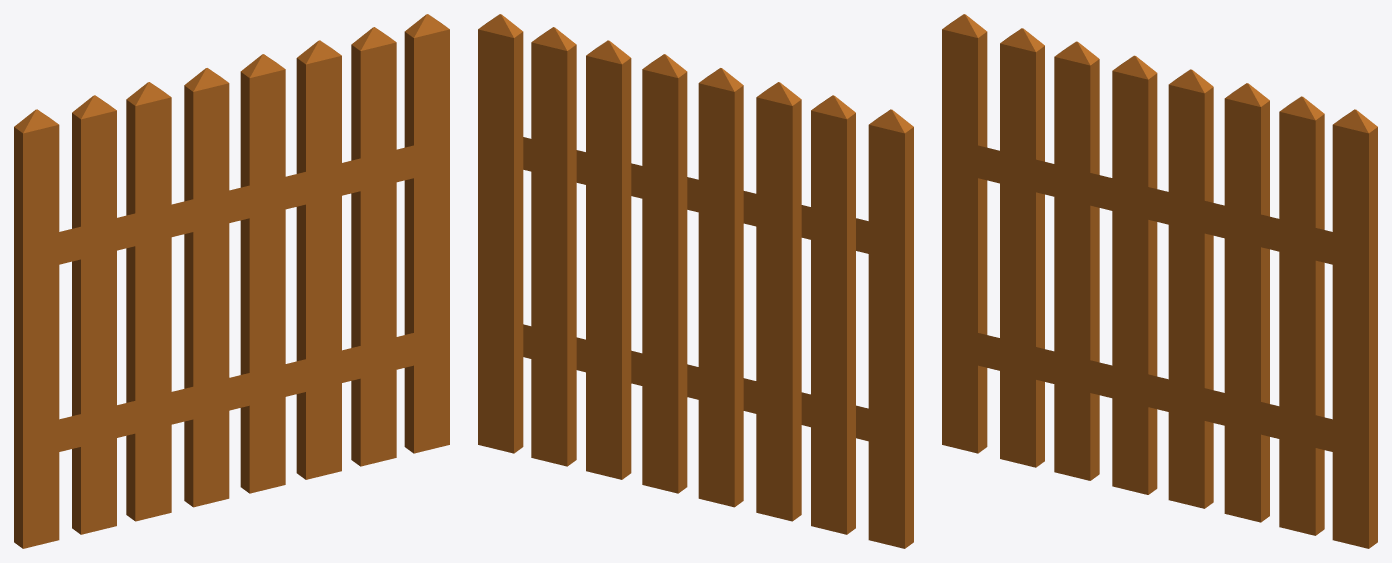
Rendered from valla.fbx.
The picture shows the model from 3 angles, left to right: view 1: azimuth 30°, elevation 25°; view 2: azimuth 150°, elevation 25°; view 3: azimuth 330°, elevation 25°; orthographic projection.
Parts seen in each view (by area): view 1: Cube.006; view 2: Cube.006; view 3: Cube.006.
Boxes of the visible parts, x1,y1,x2,y2 form: Cube.006: (14, 14, 449, 548); Cube.006: (478, 14, 913, 548); Cube.006: (942, 14, 1377, 548).
Size of the model in its own units: 98.92 by 95.57 by 4.03.
